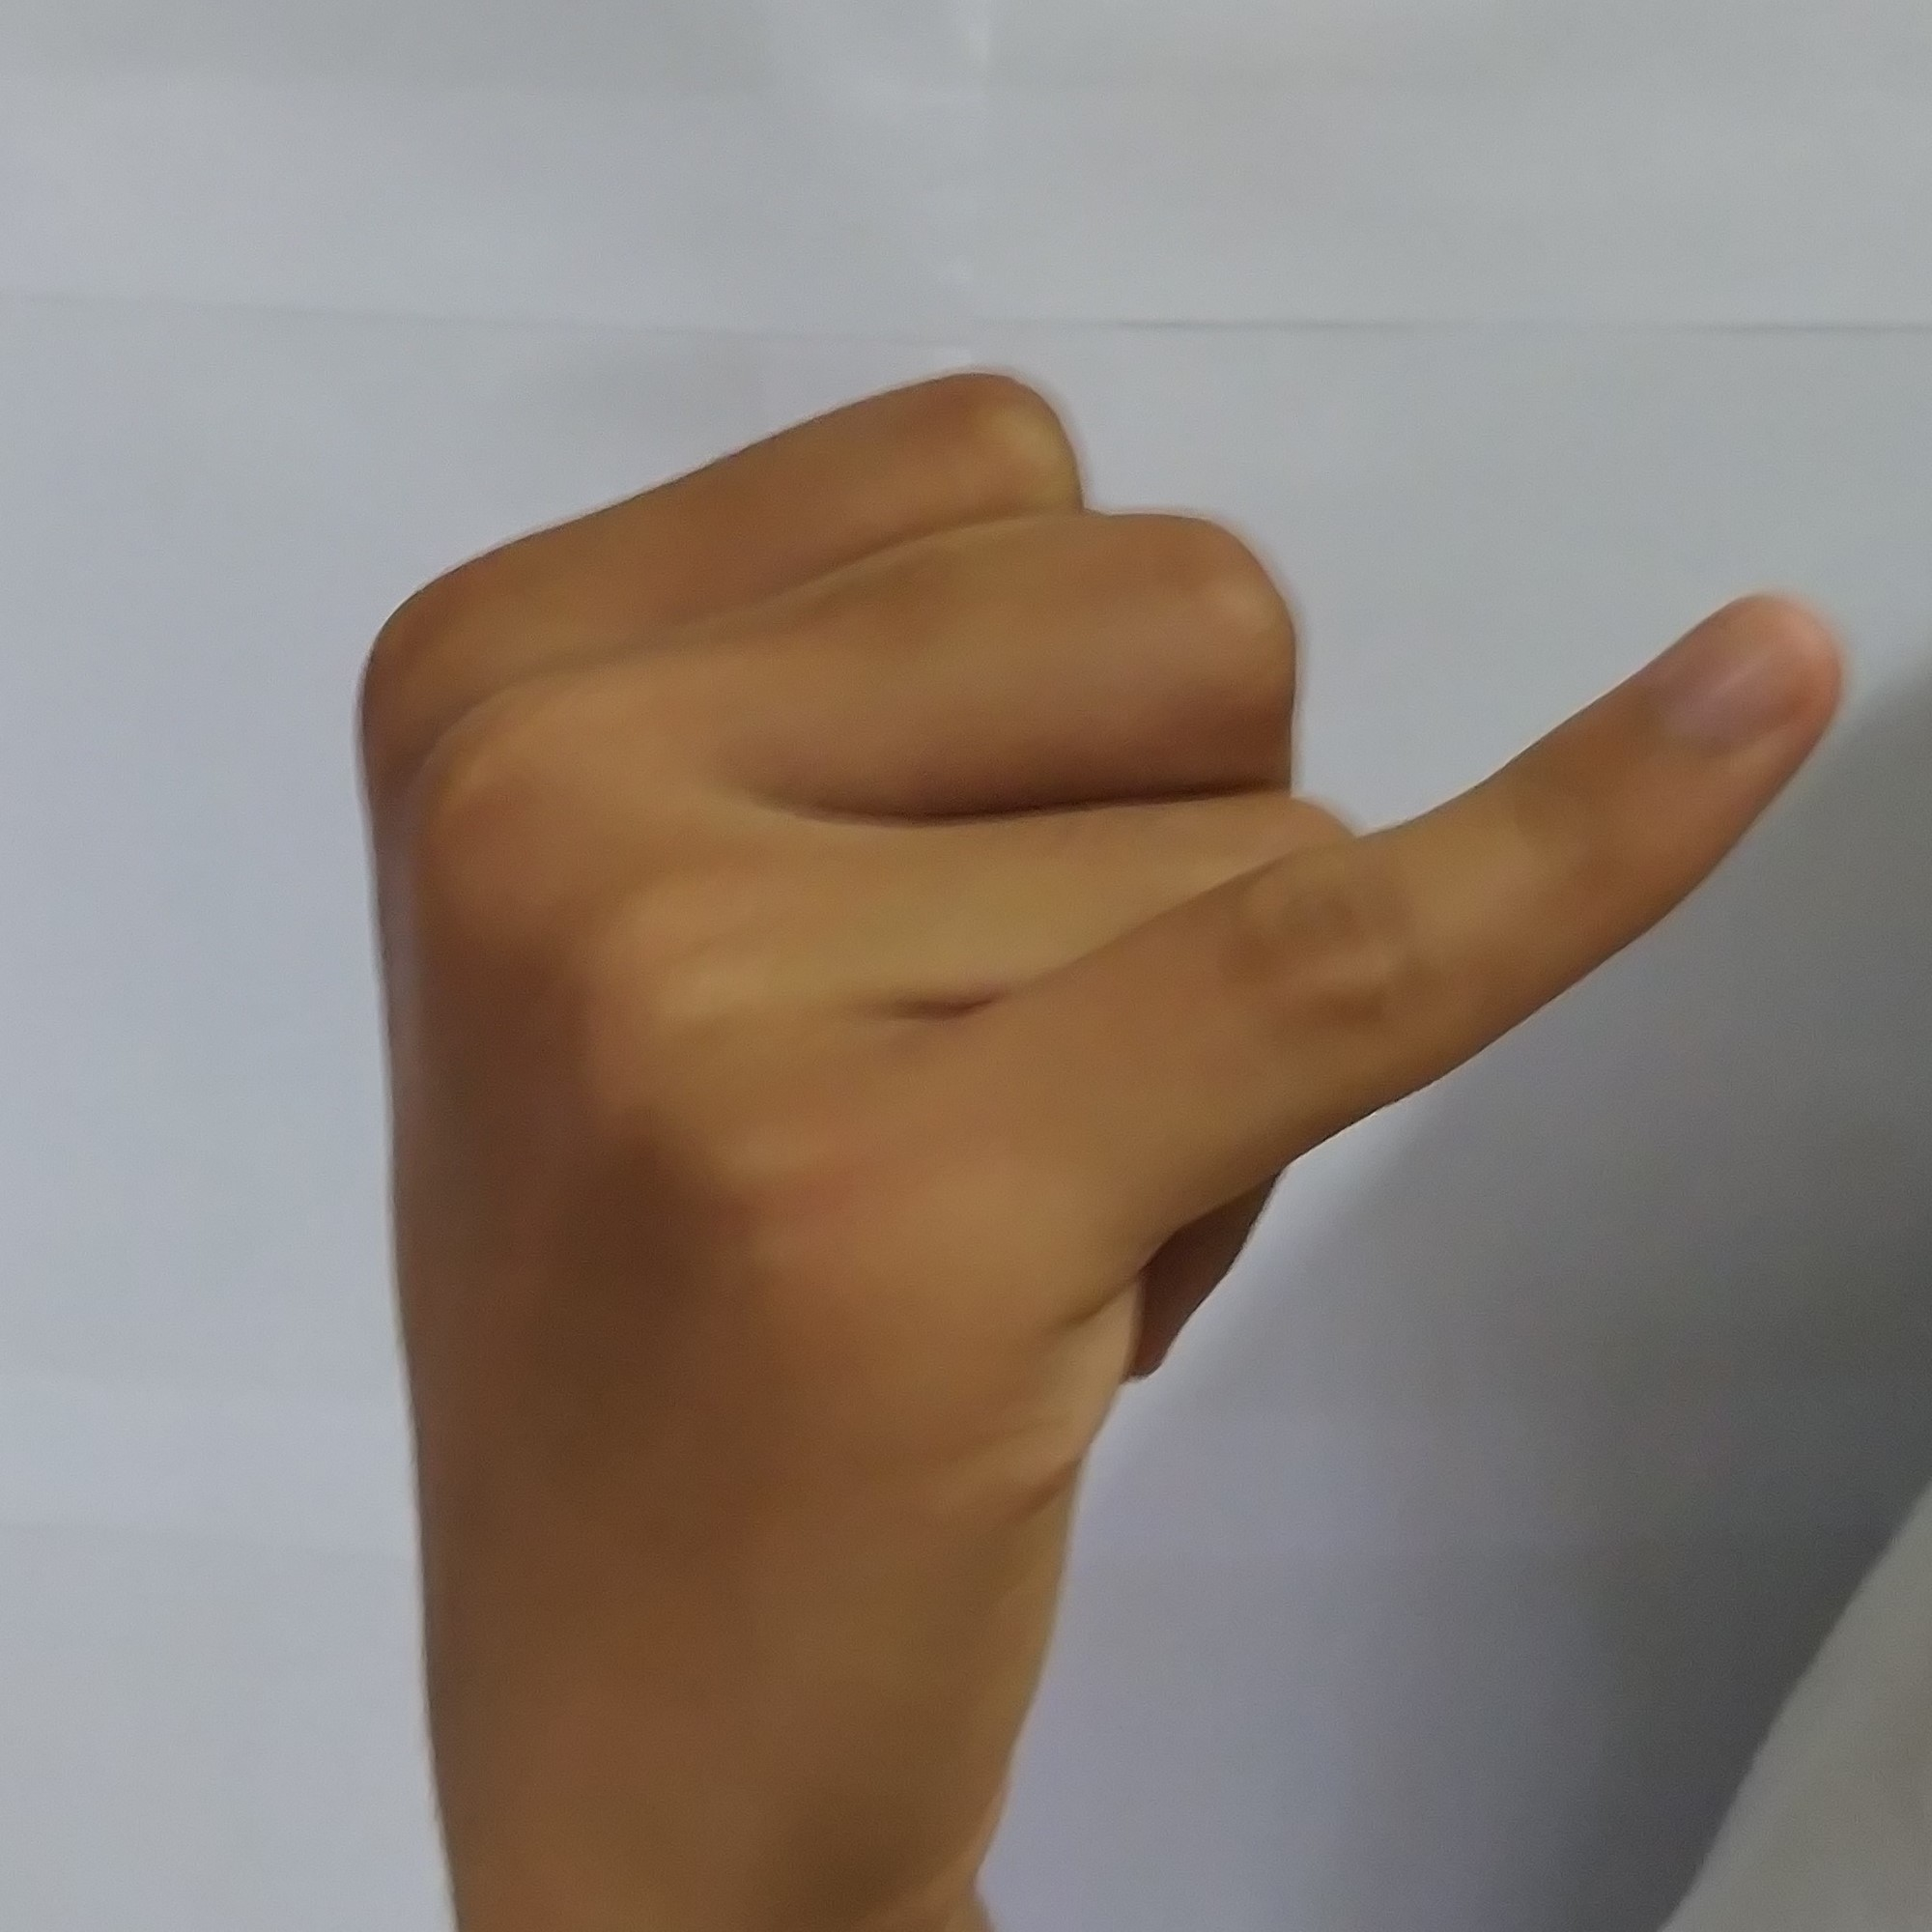J: (322, 343, 1867, 1865)
